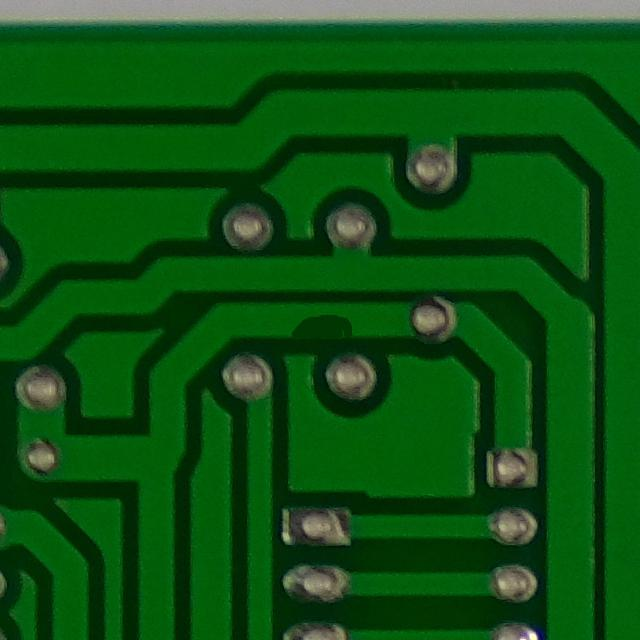mouse_bite: (268, 288, 373, 352)
